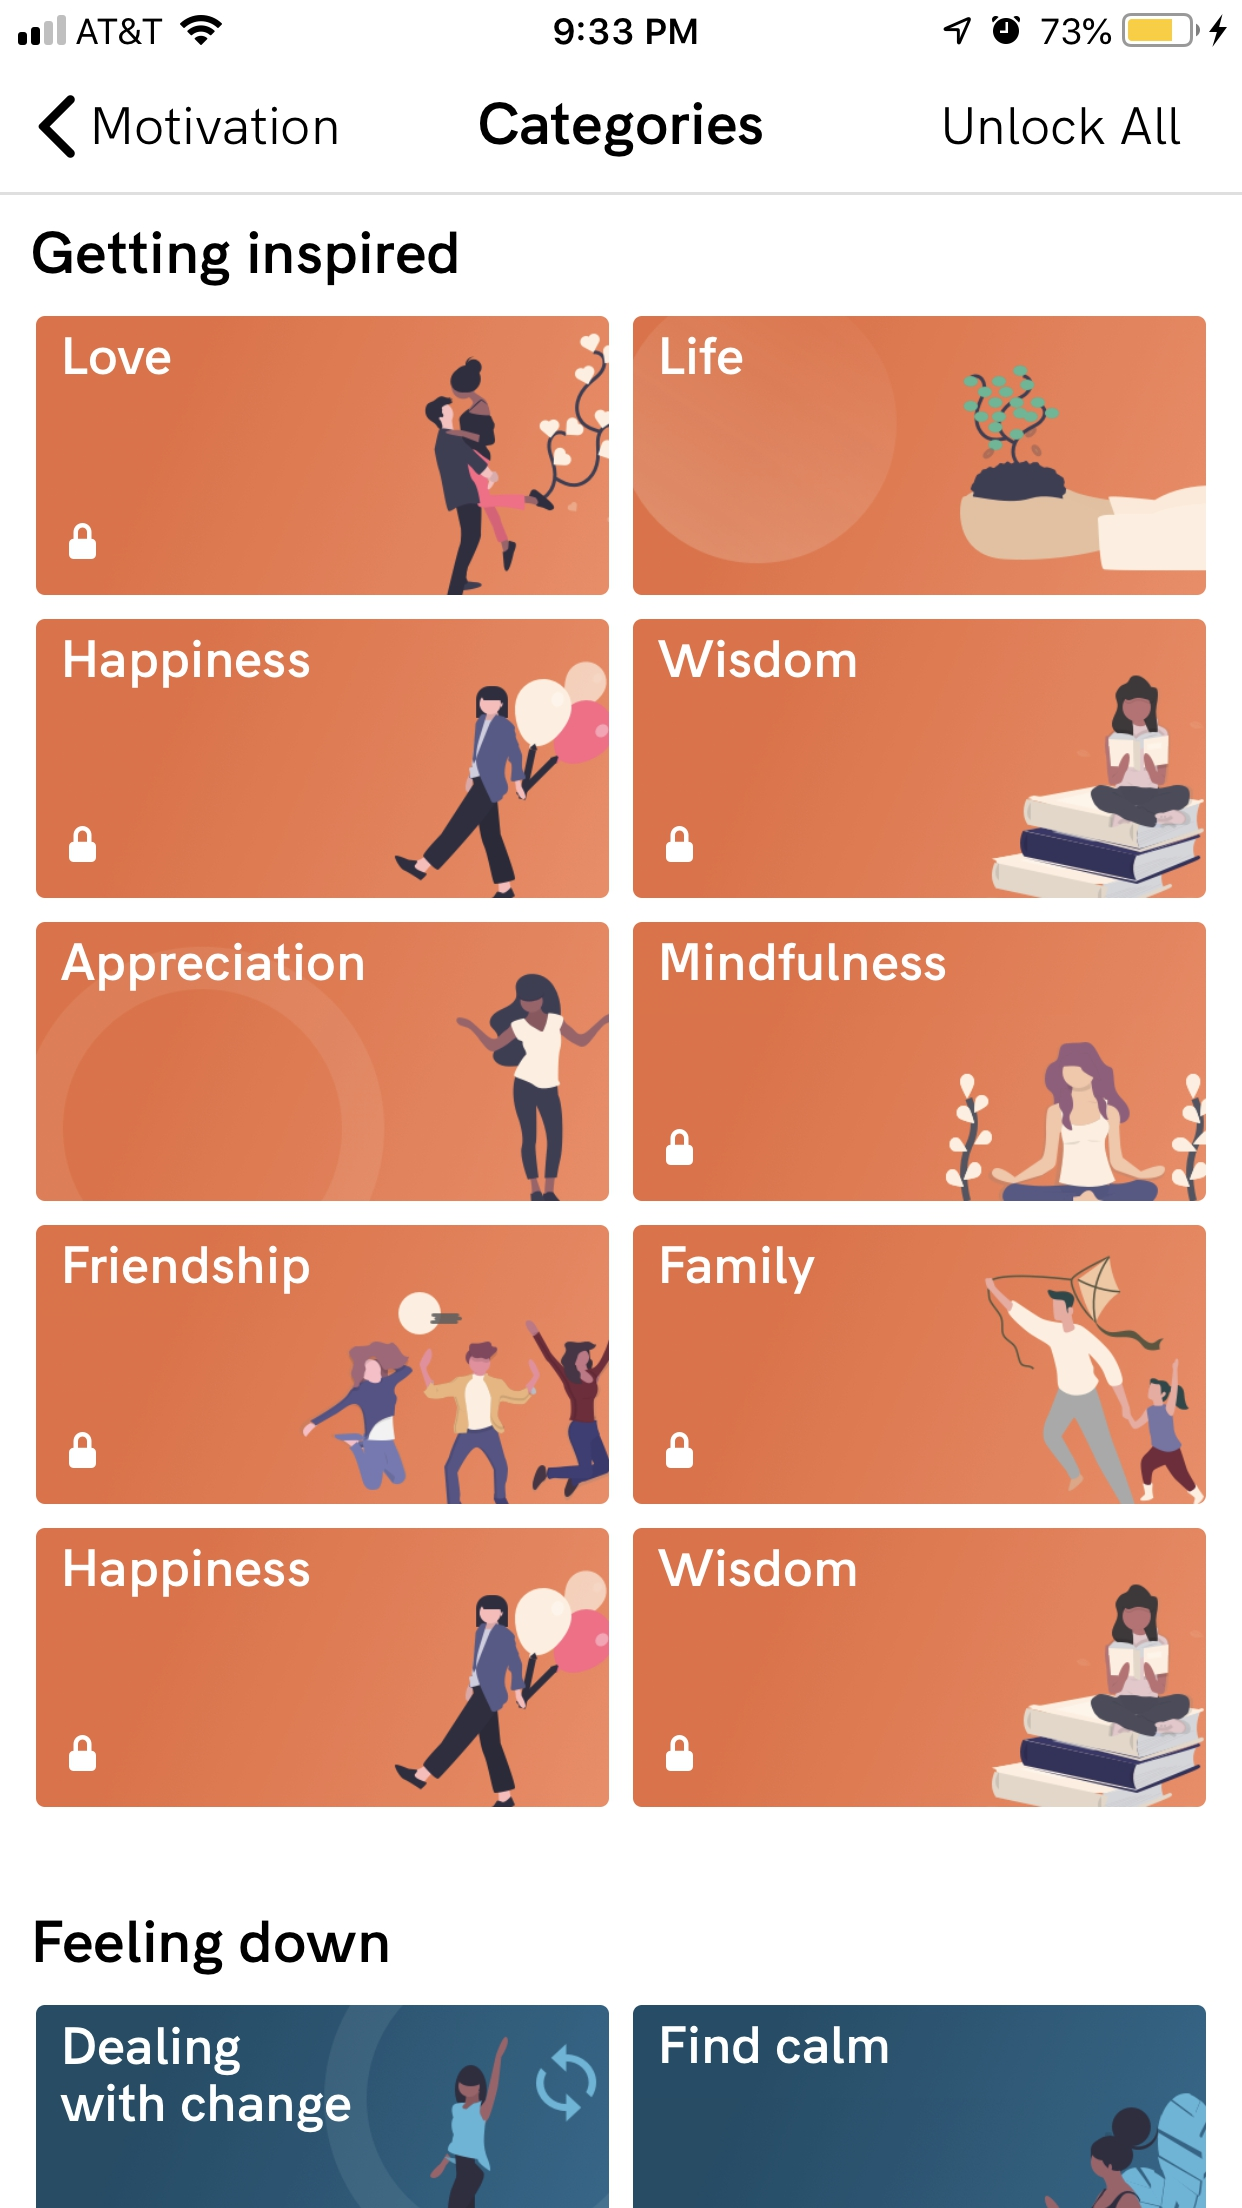Icon: (39, 97, 76, 161), (666, 1432, 695, 1468), (666, 1130, 695, 1166), (666, 1736, 695, 1771), (70, 1432, 97, 1468), (667, 826, 695, 863), (70, 826, 97, 863), (70, 523, 97, 560), (70, 1736, 97, 1771)
Image: (303, 1294, 610, 1504), (394, 622, 610, 899), (960, 365, 1206, 594), (986, 1256, 1206, 1504), (425, 315, 610, 594), (394, 1571, 610, 1806), (990, 675, 1206, 899), (990, 1583, 1206, 1806), (943, 1043, 1207, 1201), (455, 974, 610, 1203), (432, 2037, 610, 2208), (1043, 2093, 1206, 2208)
Text: (62, 2028, 350, 2134), (35, 231, 459, 288), (35, 1921, 388, 1976), (61, 942, 364, 992), (481, 105, 761, 158), (65, 1245, 309, 1295), (65, 1548, 311, 1597), (67, 641, 309, 688), (663, 943, 946, 983), (96, 108, 340, 147), (663, 2025, 887, 2065), (946, 108, 1181, 146), (661, 1247, 814, 1294), (658, 1550, 855, 1586), (660, 641, 855, 678), (67, 338, 171, 376), (664, 337, 743, 375)
UpperTaskBar: (2, 2, 1242, 49)
